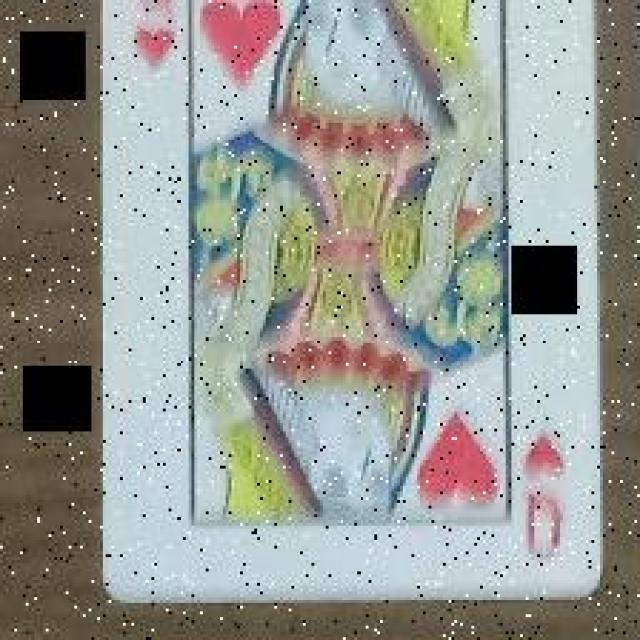Queen of hearts: (102, 1, 602, 602)
